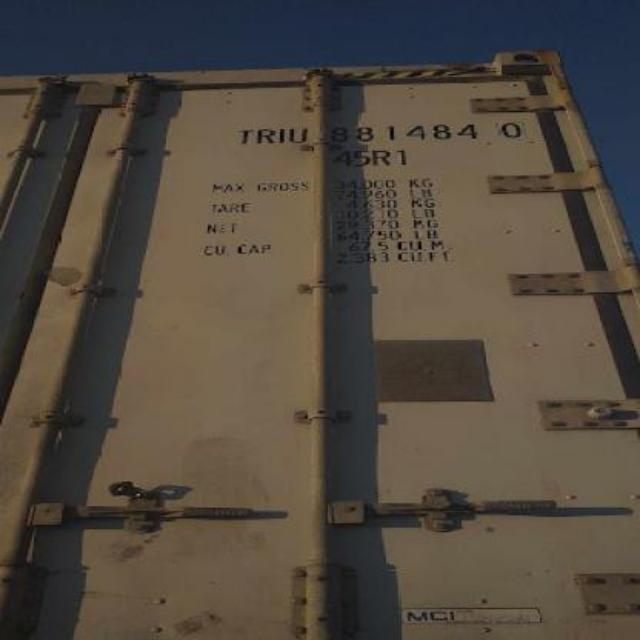0: (496, 119, 528, 143)
1: (382, 122, 404, 144)
4: (454, 120, 488, 148), (398, 121, 428, 142)
8: (428, 120, 456, 146), (350, 120, 378, 140), (332, 124, 352, 144)
I: (274, 121, 286, 153)
R: (257, 124, 273, 148)
T: (234, 122, 256, 148)
U: (284, 124, 314, 146)
